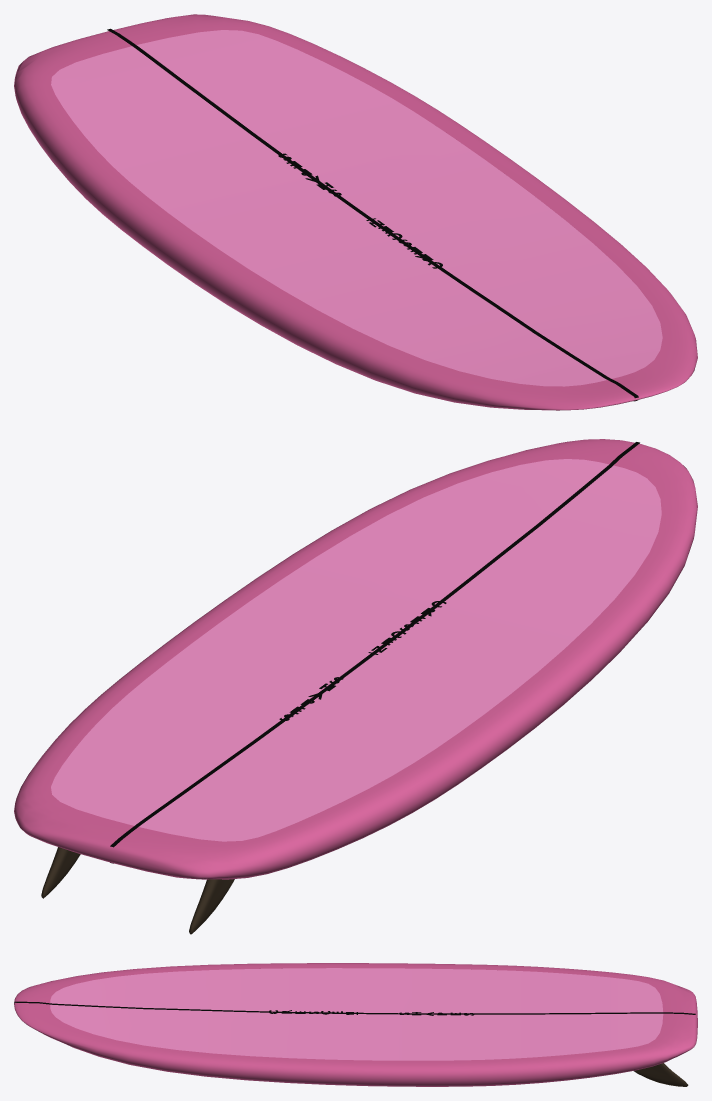
File: butter-stick.glb
The picture shows the model from 3 angles, top to bottom: view 1: azimuth 30°, elevation 25°; view 2: azimuth 150°, elevation 25°; view 3: azimuth 270°, elevation 25°; orthographic projection. The views are drawn at different scales.
Visible parts, largest first — view 1: surftop, surfboard, topstripe-body; view 2: surftop, surfboard, topstripe-body, fin-2, fin-1; view 3: surftop, surfboard, topstripe-body, fin-1.
Part boxes in pixels (x1,y1,x2,y2): surftop: (51, 30, 662, 386); surfboard: (14, 14, 697, 410); topstripe-body: (107, 28, 638, 398); surftop: (51, 459, 661, 841); surfboard: (14, 439, 697, 879); topstripe-body: (110, 442, 639, 847); fin-2: (189, 879, 234, 934); fin-1: (41, 847, 80, 898); surftop: (50, 968, 663, 1060); surfboard: (14, 963, 697, 1086); topstripe-body: (14, 1001, 695, 1014); fin-1: (634, 1063, 688, 1086).
Bounding box in the file's own units: 2.68 × 0.6902 × 7.01.
